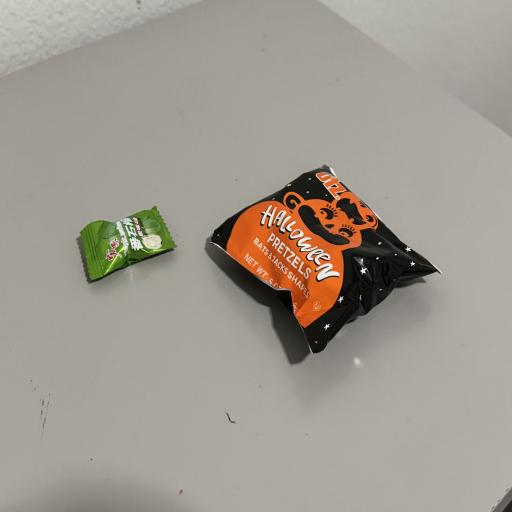chocolate: (212, 166, 438, 352), (81, 207, 175, 279)
